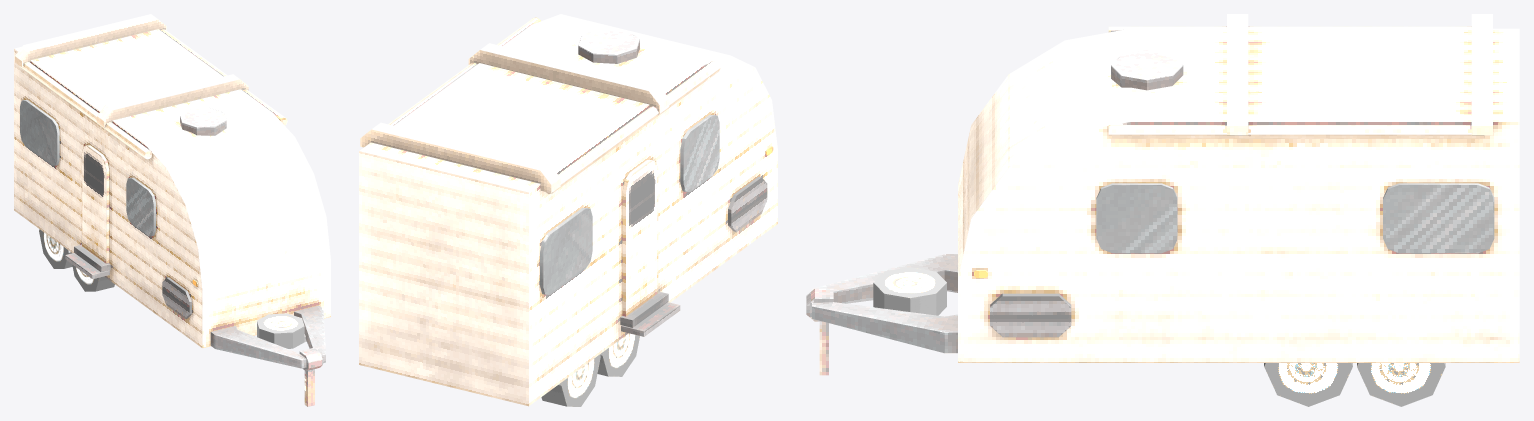
3 renders of one model, left to right at view 1: azimuth 30°, elevation 25°; view 2: azimuth 150°, elevation 25°; view 3: azimuth 270°, elevation 25°, orthographic. The views are drawn at different scales.
Parts seen in each view (by area): view 1: RV_3; view 2: RV_3; view 3: RV_3.
Boxes of the visible parts, <box> form: RV_3: <box>14,14,330,406</box>; RV_3: <box>359,14,777,406</box>; RV_3: <box>806,14,1519,406</box>.
Bounding box in the file's own units: 2.41 × 3.13 × 6.45.
